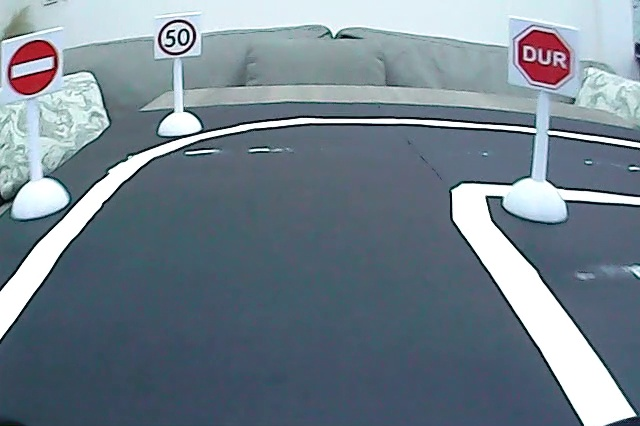do not enter: (4, 36, 61, 98)
speed limit 50: (158, 18, 198, 58)
stop sign: (513, 23, 578, 93)
